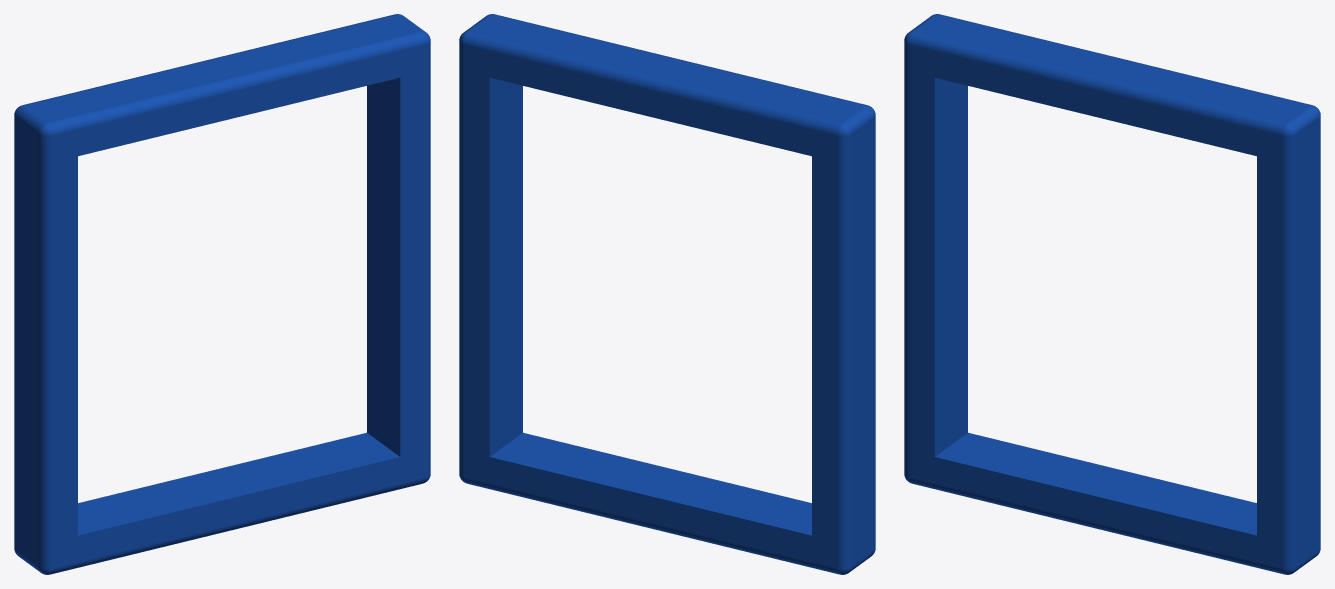
File: model_4_3m_unused.glb
3 views of the same model, side by side, from view 1: azimuth 30°, elevation 25°; view 2: azimuth 150°, elevation 25°; view 3: azimuth 330°, elevation 25° (orthographic).
Visible parts, largest first — view 1: Part 1; view 2: Part 1; view 3: Part 1.
Part boxes in pixels (x1=…): Part 1: x1=14, y1=14, x2=430, y2=574; Part 1: x1=459, y1=14, x2=875, y2=574; Part 1: x1=904, y1=14, x2=1320, y2=574.
Bounding box in the file's own units: 0.8636 × 0.9525 × 0.127.
